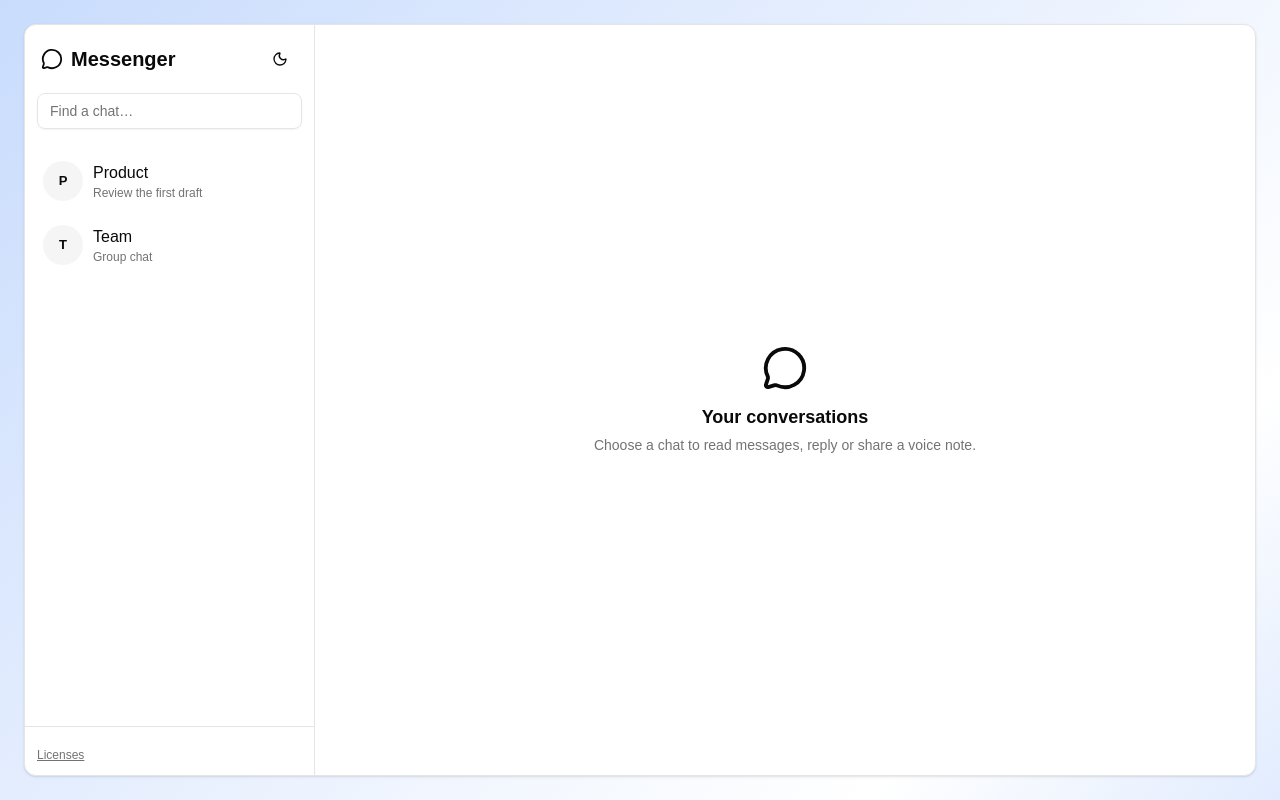
Test: retained donor chat UI and House composition › shows per-Room chat list and opens a real donor chat/header/event/toolbar
Click the button with aria-label "Open Product chat": (63, 181) [33,149,306,213]
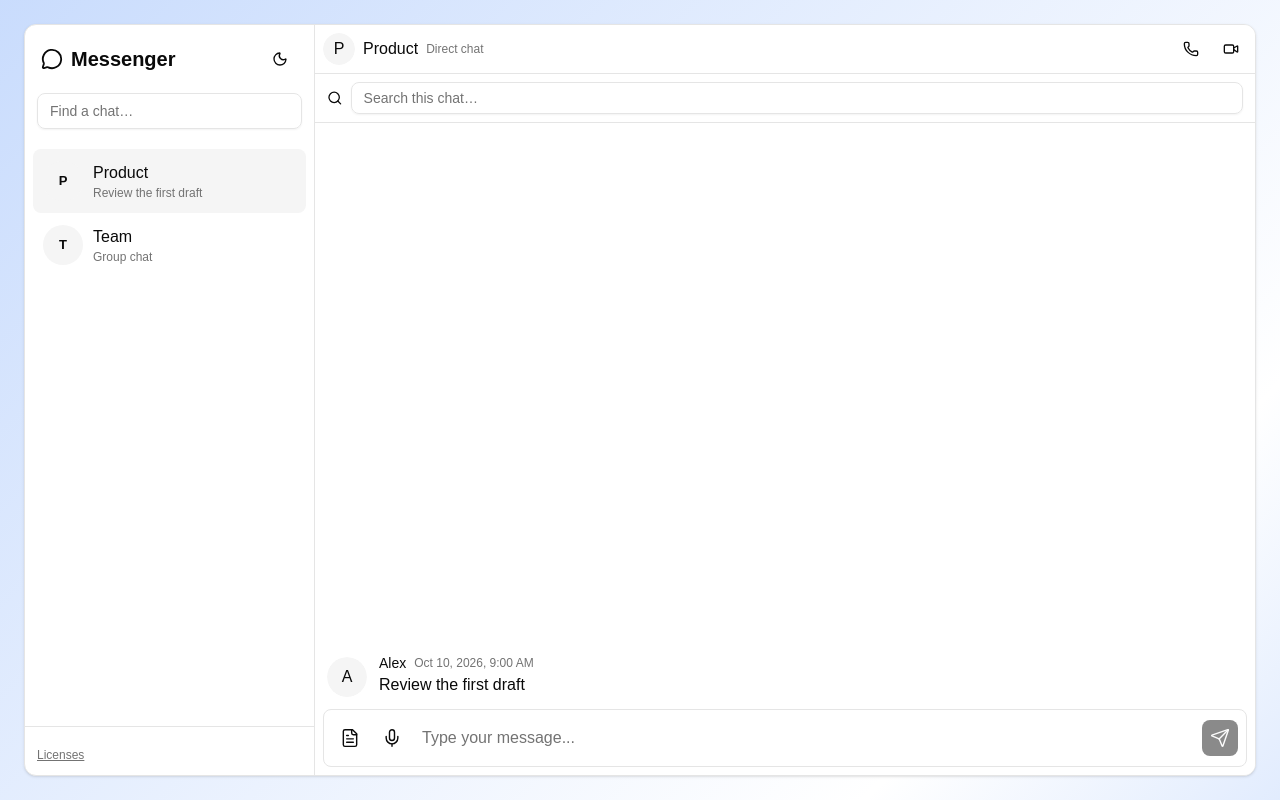
Expected: the element showing "P Product Direct chat" is shown, [315,25,1255,74]
Expected: the element showing "A Alex Oct 10, 2026, 9:00 AM Review the first draft" is shown, [327,655,534,697]
Expected: the text "Alex" is shown, [379,653,406,673]
